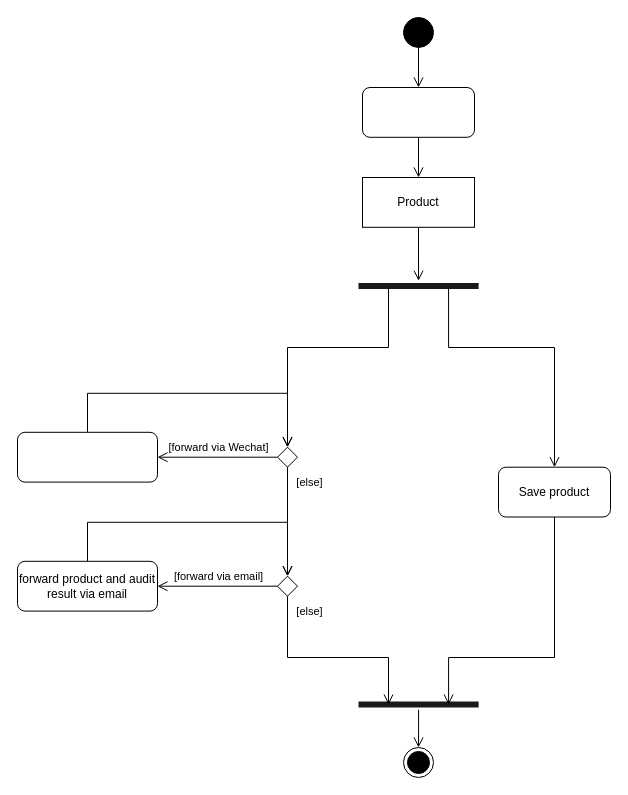
This 628x795 diagram has some shape labels left out. Here are the shapes that lost their labels. From the top down, the centre of each, then its label:
At [418,111]: "Create Image/Text Content".
At [87,456]: "forward product and audit result via WeChat".
